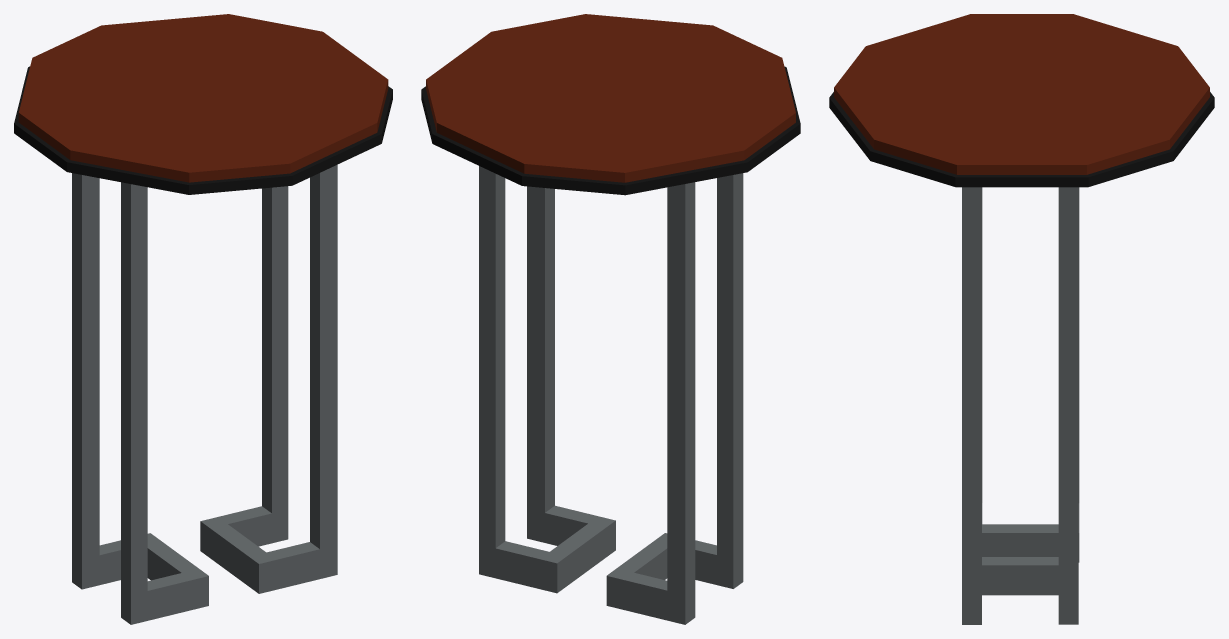
File: Stool.FBX
The picture shows the model from 3 angles, left to right: view 1: azimuth 30°, elevation 25°; view 2: azimuth 150°, elevation 25°; view 3: azimuth 270°, elevation 25°; orthographic projection.
Parts seen in each view (by area): view 1: Box002, Gengon002, object 1; view 2: Box002, Gengon002, object 1; view 3: Gengon002, Box002, object 1.
Part boxes in pixels (x1,y1,x2,y2): Box002: (72, 164, 337, 624); Gengon002: (18, 14, 388, 182); object 1: (14, 66, 392, 194); Box002: (479, 166, 743, 624); Gengon002: (426, 14, 795, 182); object 1: (421, 66, 800, 195); Gengon002: (834, 14, 1209, 174); Box002: (962, 187, 1079, 624); object 1: (829, 92, 1214, 187).
Size of the model in its own units: 17.75 by 25.8 by 18.66.
